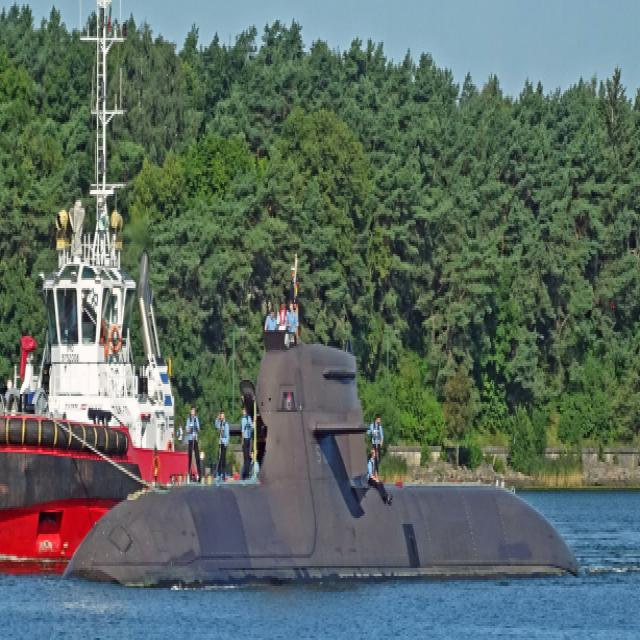submarine: (63, 353, 640, 587)
